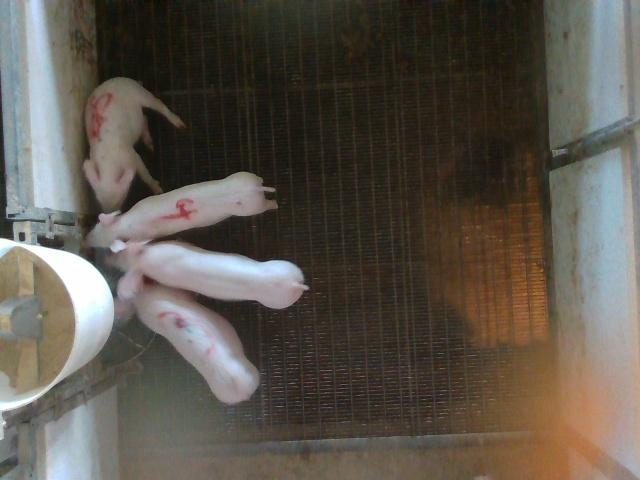pig-3: (134, 282, 260, 403)
pig-4: (88, 172, 276, 252)
pig-5: (84, 78, 184, 212)
